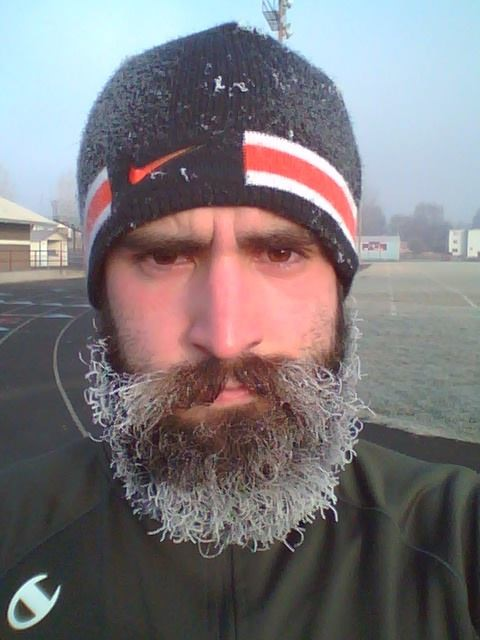face_no_mask: (85, 138, 357, 503)
